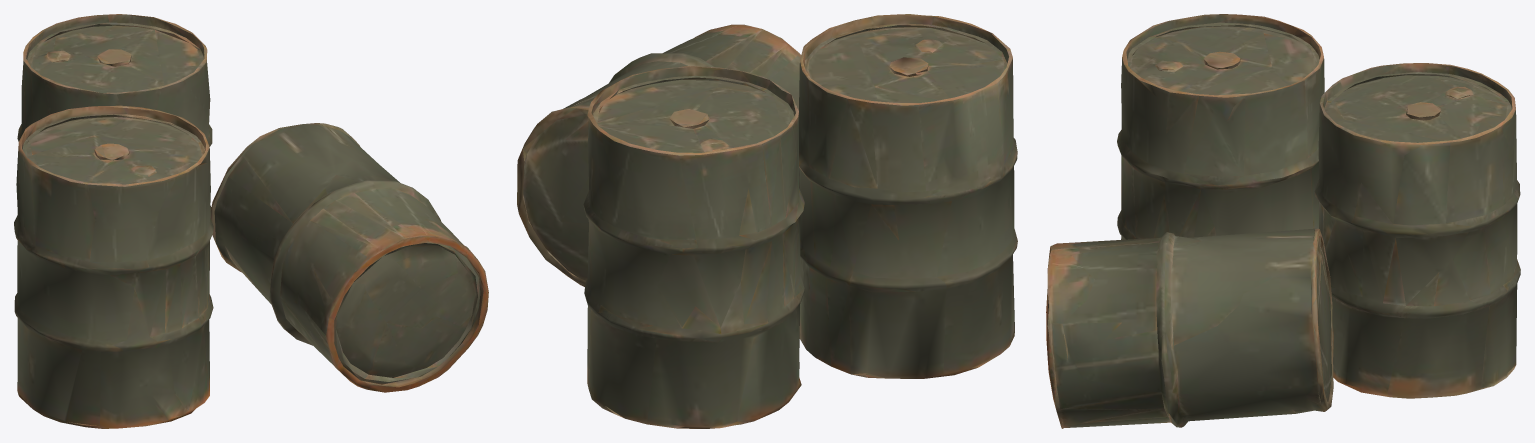
The model's file is fuel-drum-cluster.glb.
3 renders of one model, left to right at view 1: azimuth 30°, elevation 25°; view 2: azimuth 150°, elevation 25°; view 3: azimuth 270°, elevation 25°, orthographic. The views are drawn at different scales.
Visible parts, largest first — view 1: Mesh_0.001; view 2: Mesh_0.001; view 3: Mesh_0.001.
Boxes of the visible parts, x1,y1,x2,y2 form: Mesh_0.001: (14, 14, 488, 428); Mesh_0.001: (517, 14, 1017, 428); Mesh_0.001: (1046, 14, 1520, 428).
Bounding box in the file's own units: 1.49 × 0.9 × 1.51.
1 material, 1 textured.
